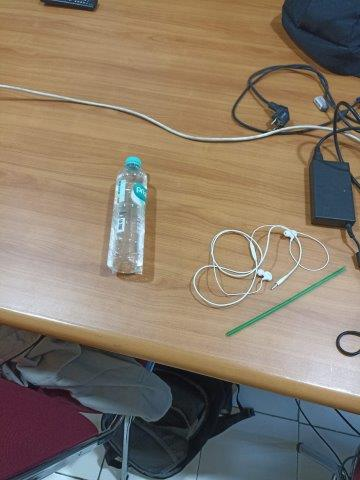botolplastik: (107, 155, 148, 274)
